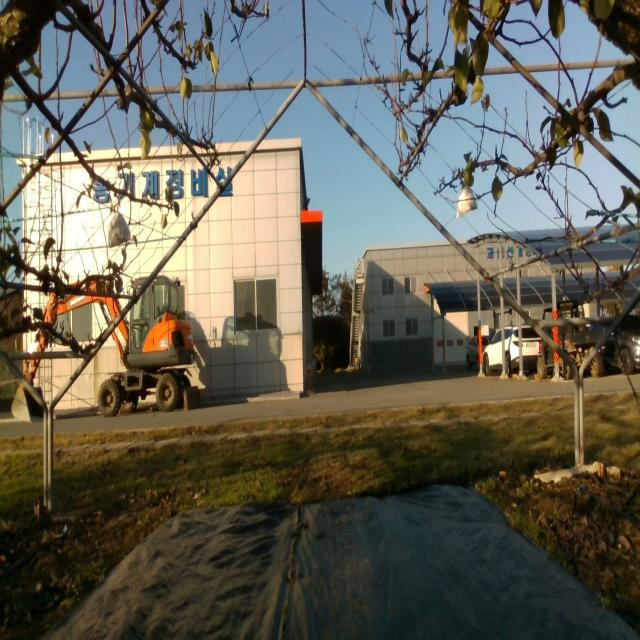pearbags: (108, 210, 130, 248), (456, 183, 478, 219)
